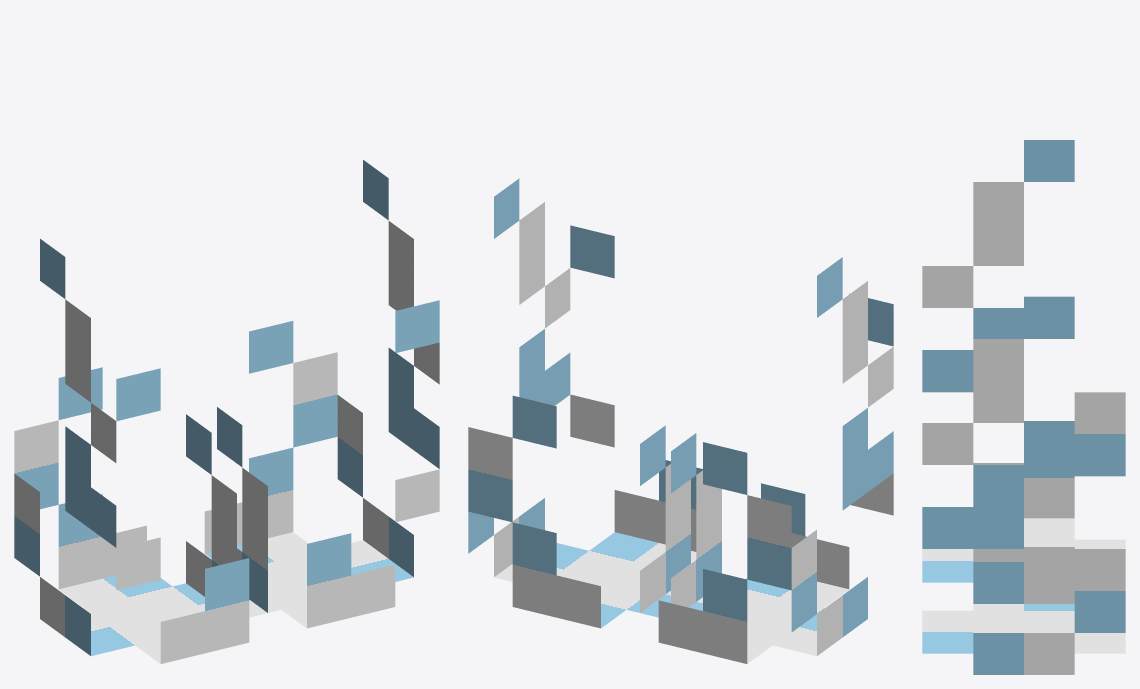
The model's file is sl_lightning_legs.glb.
3 renders of one model, left to right at view 1: azimuth 30°, elevation 25°; view 2: azimuth 150°, elevation 25°; view 3: azimuth 270°, elevation 25°, orthographic.
Parts seen in each view (by area): view 1: bb_lightning_legs; view 2: bb_lightning_legs; view 3: bb_lightning_legs.
Boxes of the visible parts, x1,y1,x2,y2 form: bb_lightning_legs: [14, 160, 439, 663]; bb_lightning_legs: [468, 178, 893, 663]; bb_lightning_legs: [922, 140, 1125, 674].
Bounding box in the file's own units: 0.525 × 0.7875 × 0.2875.
1 material, 1 textured.
